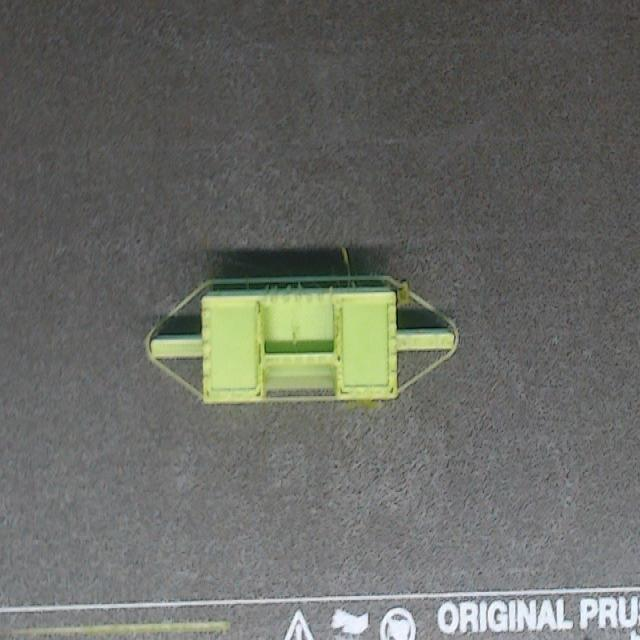mistake: (341, 245, 349, 275), (399, 283, 408, 303), (298, 281, 303, 291), (349, 280, 356, 287), (286, 284, 292, 291), (274, 285, 279, 293), (330, 284, 334, 292), (266, 285, 270, 292)
